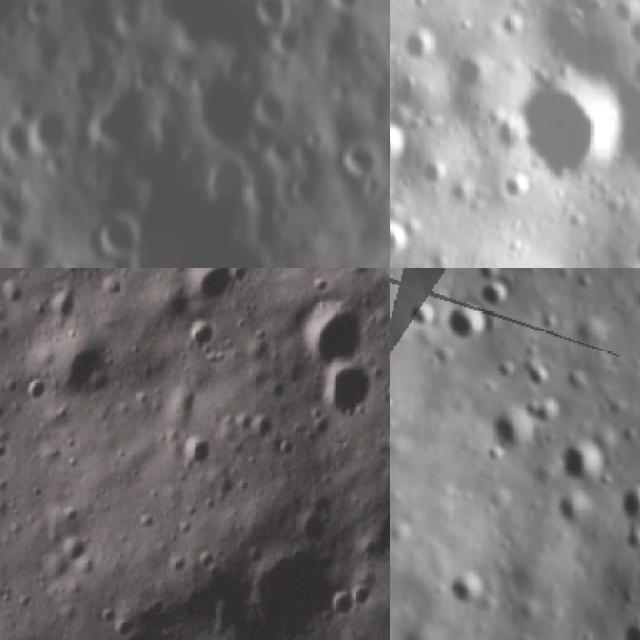crater: (232, 529, 353, 640), (277, 285, 390, 388), (517, 68, 621, 177), (42, 315, 129, 413), (304, 345, 390, 439), (186, 72, 271, 152), (84, 76, 156, 155), (42, 518, 100, 575), (91, 204, 146, 262), (182, 305, 228, 361), (609, 89, 640, 172), (486, 405, 536, 456), (35, 104, 84, 156), (555, 440, 609, 487), (182, 268, 240, 311), (90, 599, 146, 640), (446, 299, 489, 348), (322, 582, 364, 632), (449, 571, 495, 615), (550, 491, 600, 531), (524, 395, 578, 432), (177, 425, 217, 471), (243, 406, 282, 451), (453, 54, 491, 99), (489, 108, 526, 154), (255, 81, 296, 122), (349, 573, 388, 613), (340, 138, 380, 176), (0, 119, 35, 160), (22, 369, 59, 406), (477, 280, 516, 315), (247, 0, 294, 29), (401, 296, 438, 331), (0, 216, 32, 253), (404, 26, 435, 62), (502, 170, 530, 207), (23, 0, 57, 30), (390, 124, 409, 172), (390, 219, 409, 265), (501, 14, 532, 42), (618, 489, 640, 526), (321, 0, 360, 17), (616, 615, 640, 640), (625, 54, 640, 90), (625, 17, 640, 50), (291, 260, 342, 268), (627, 395, 640, 426), (628, 235, 640, 268), (395, 0, 434, 10)
